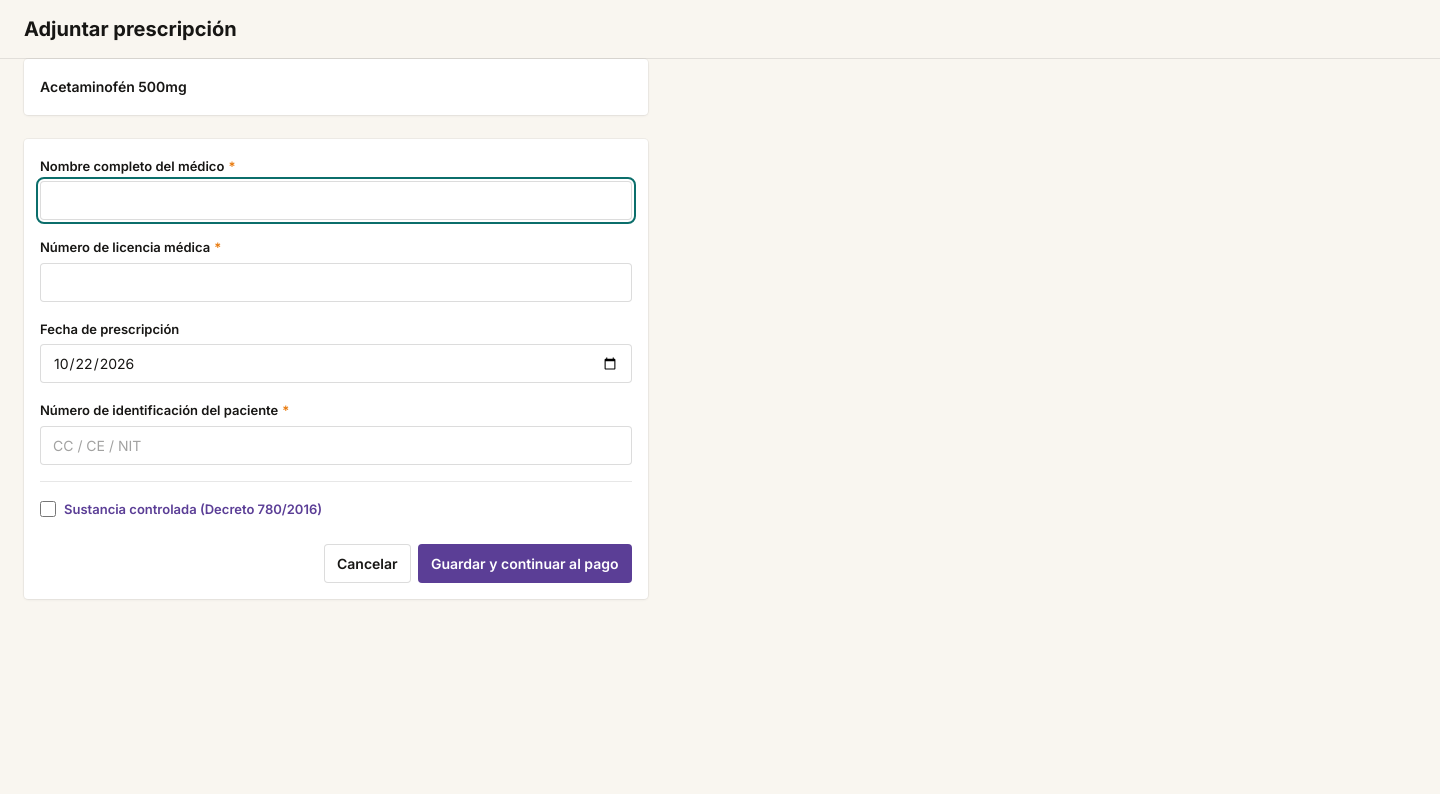
Test case: PrescriptionsPage › PRXP-03: validation › shows controlled substance validation errors
Type "Dr. Pérez" into the field labelled "Nombre completo del médico*". click: (336, 201)
box: [40,181,632,220]
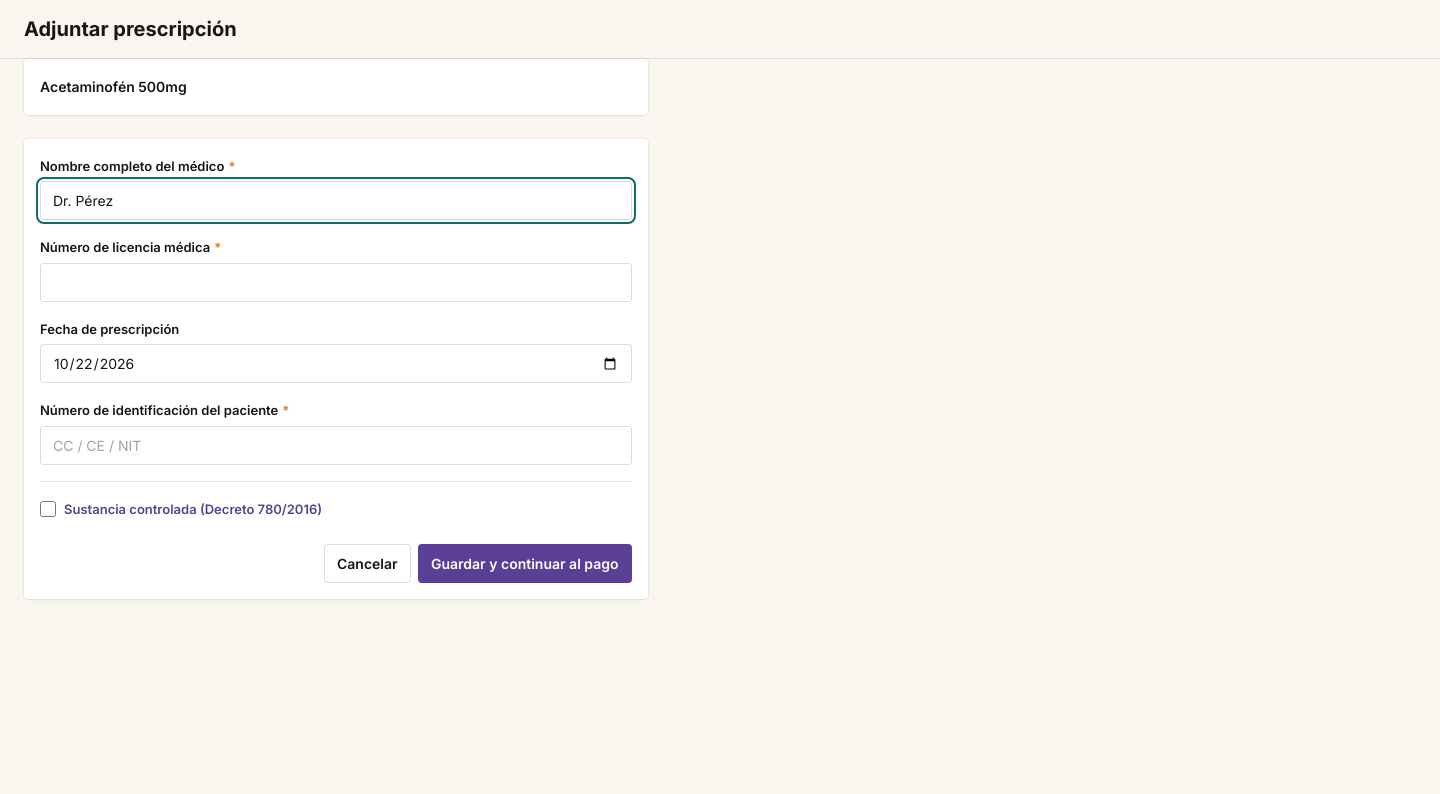
Type "LIC-12345" into the field labelled "Número de licencia médica*". click: (336, 282)
box: [40,263,632,302]
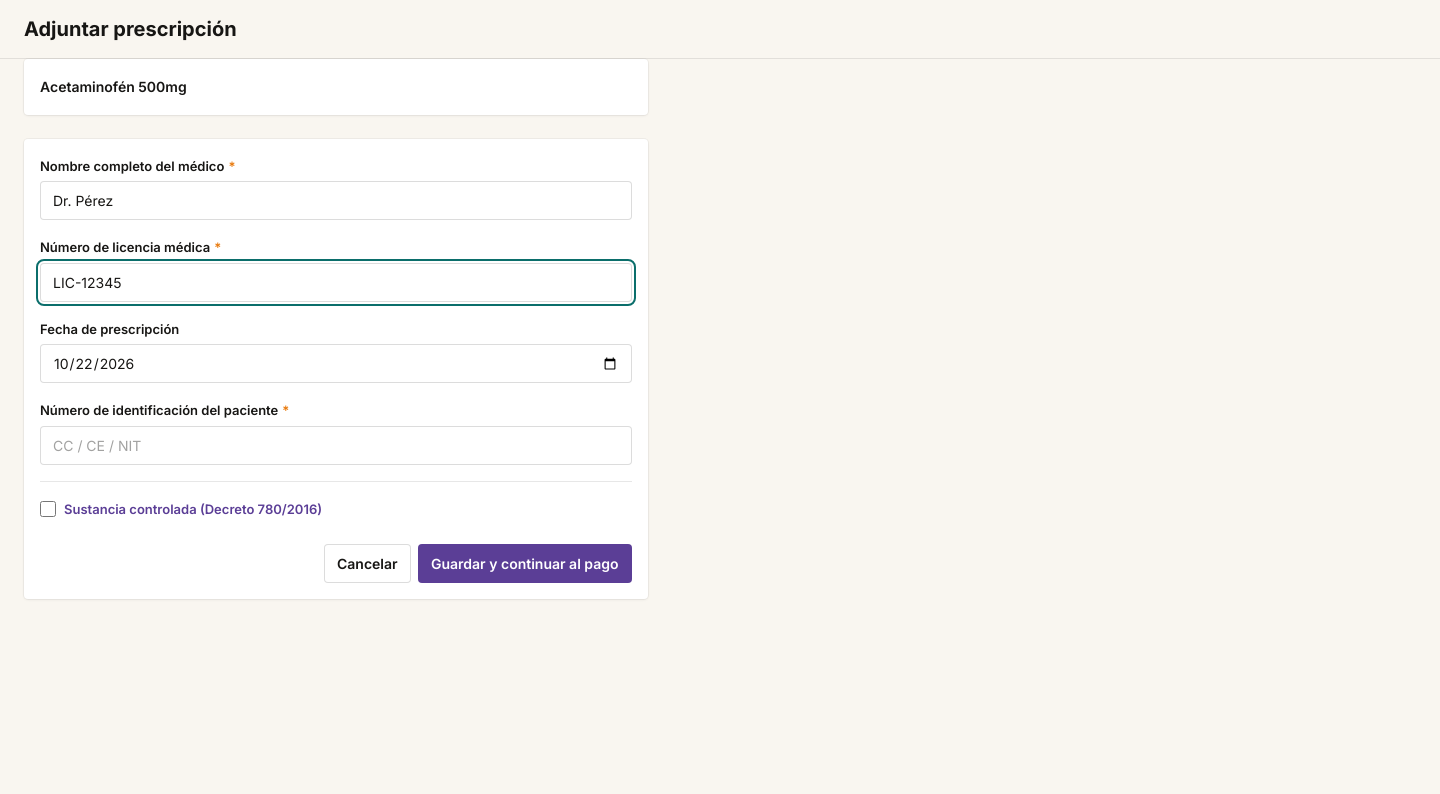
Type "CC-123456" into the field labelled "Número de identificación del paciente*". click: (336, 445)
box: [40,426,632,465]
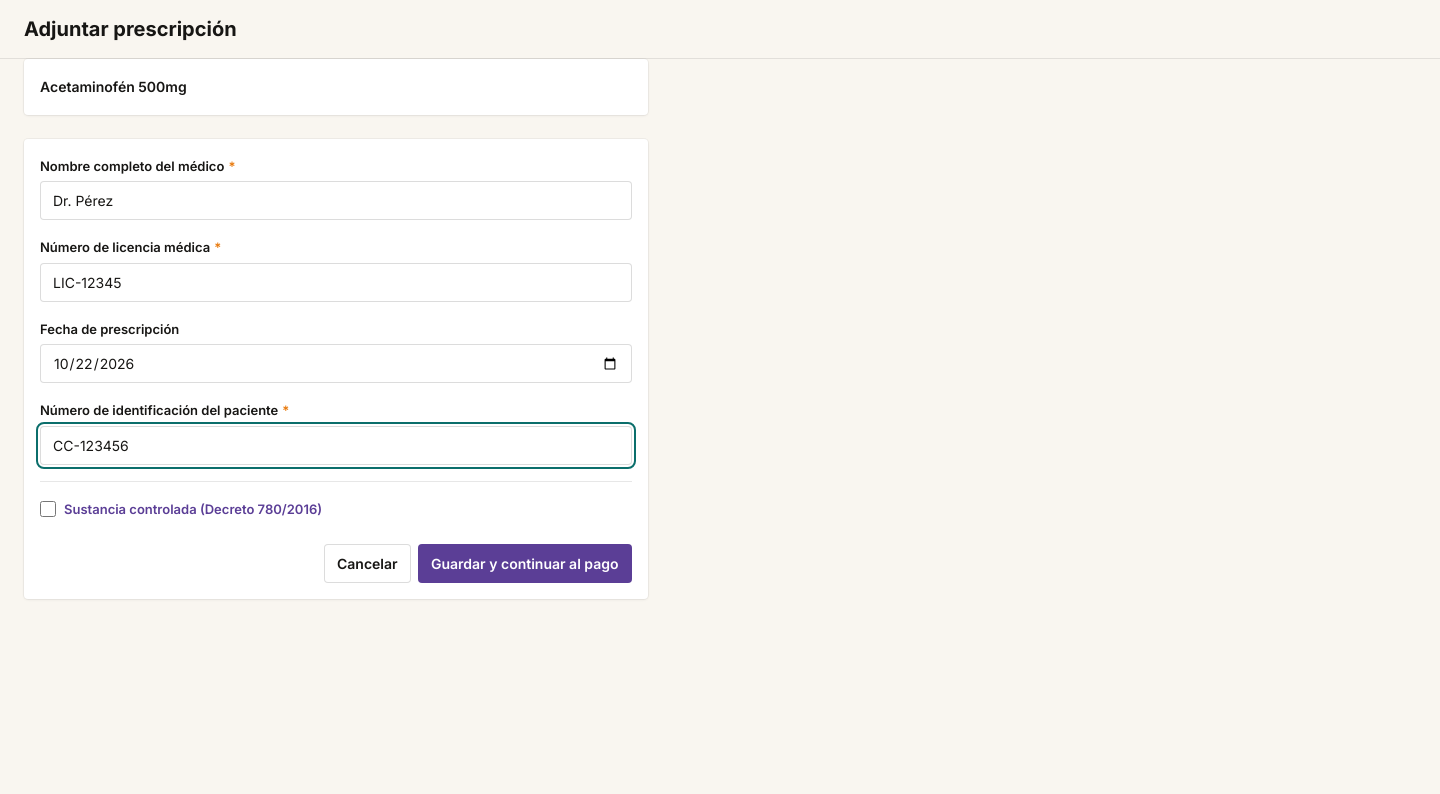
Note: Check controlled substance
Click the checkbox labelled "Sustancia controlada (Decreto 780/2016)". click: (48, 509)
box: [40,501,56,517]
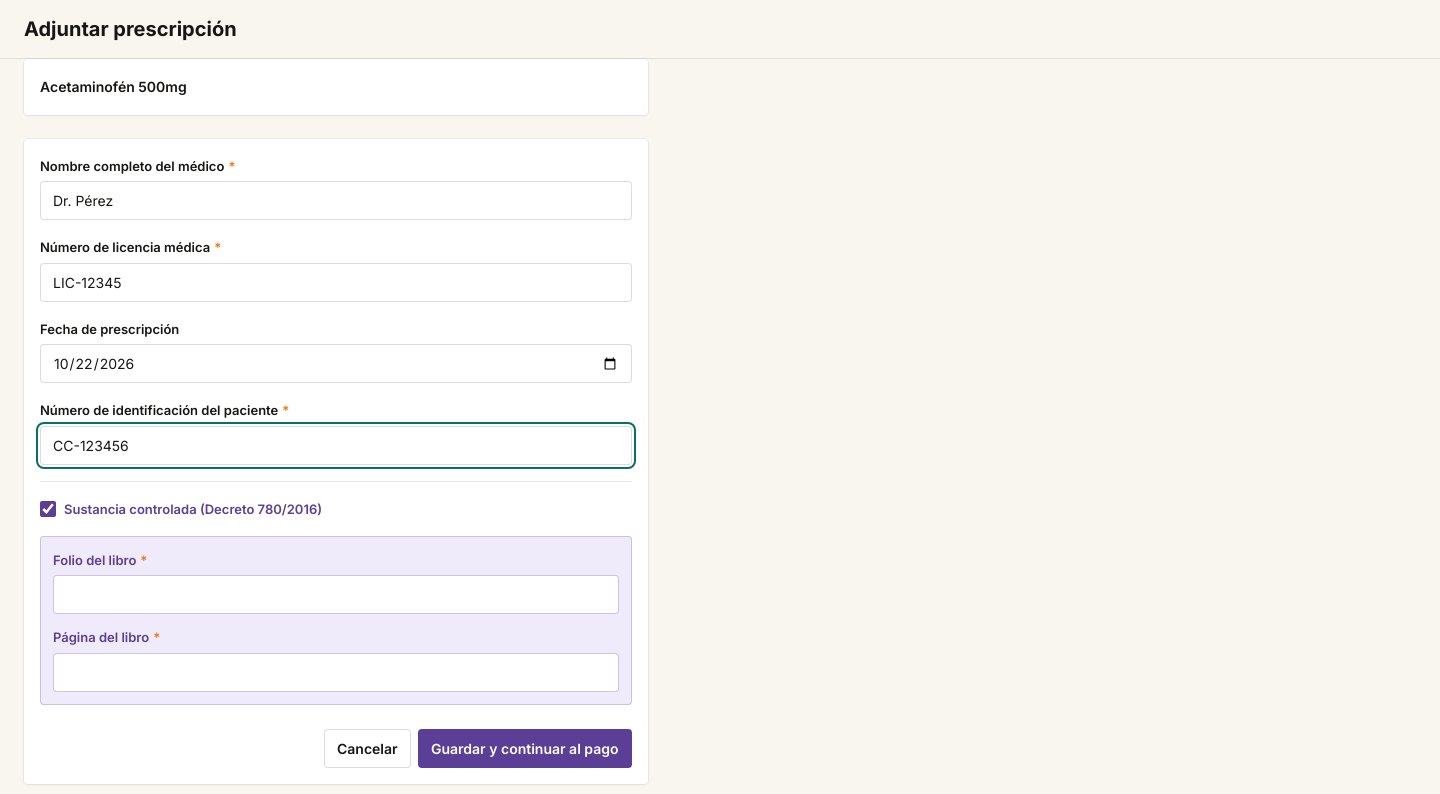
Click the button "Guardar y continuar al pago". click: (525, 748)
box: [418,729,632,768]
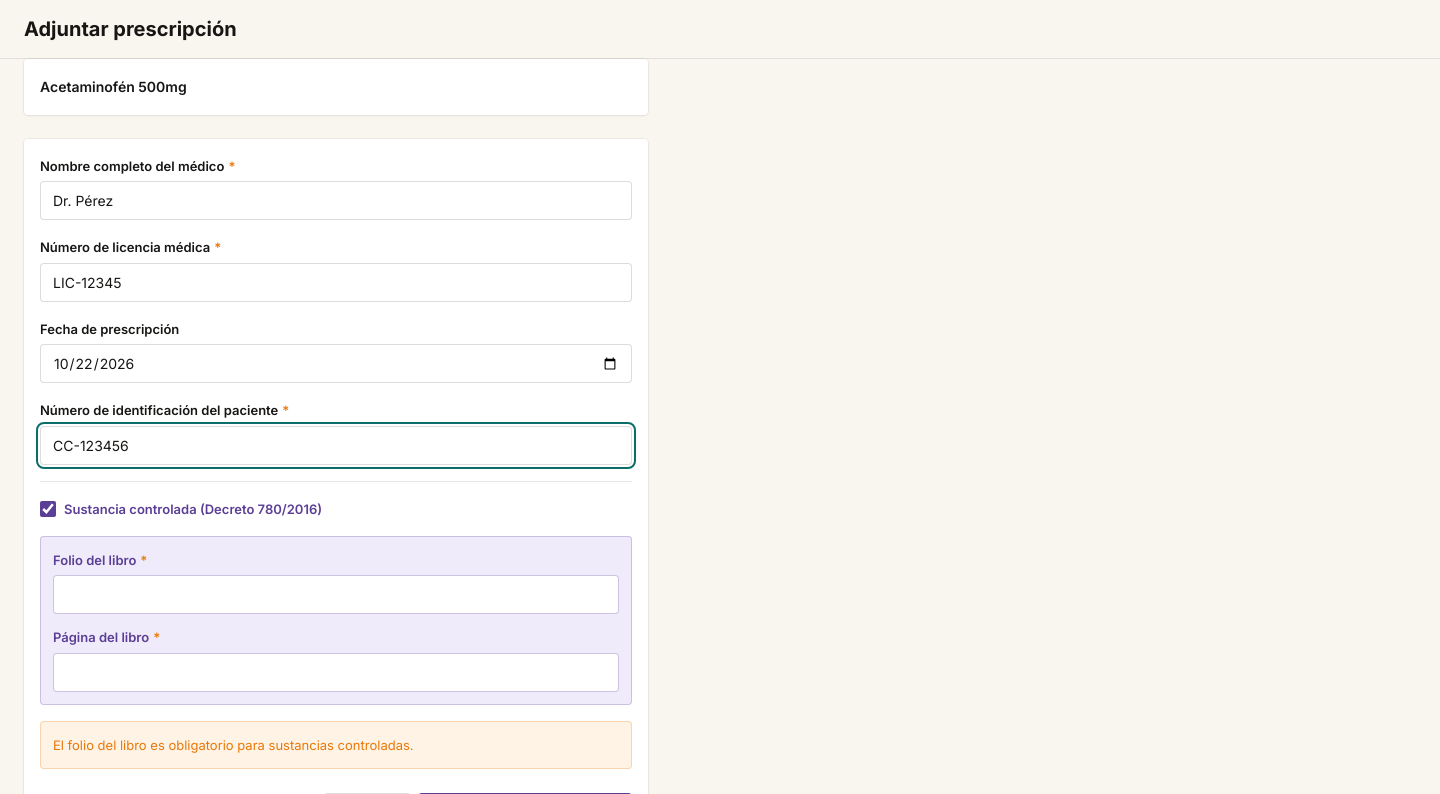
Result: the text "El folio del libro es obligatorio para sustancias controladas." is shown at [40,721,632,769]
